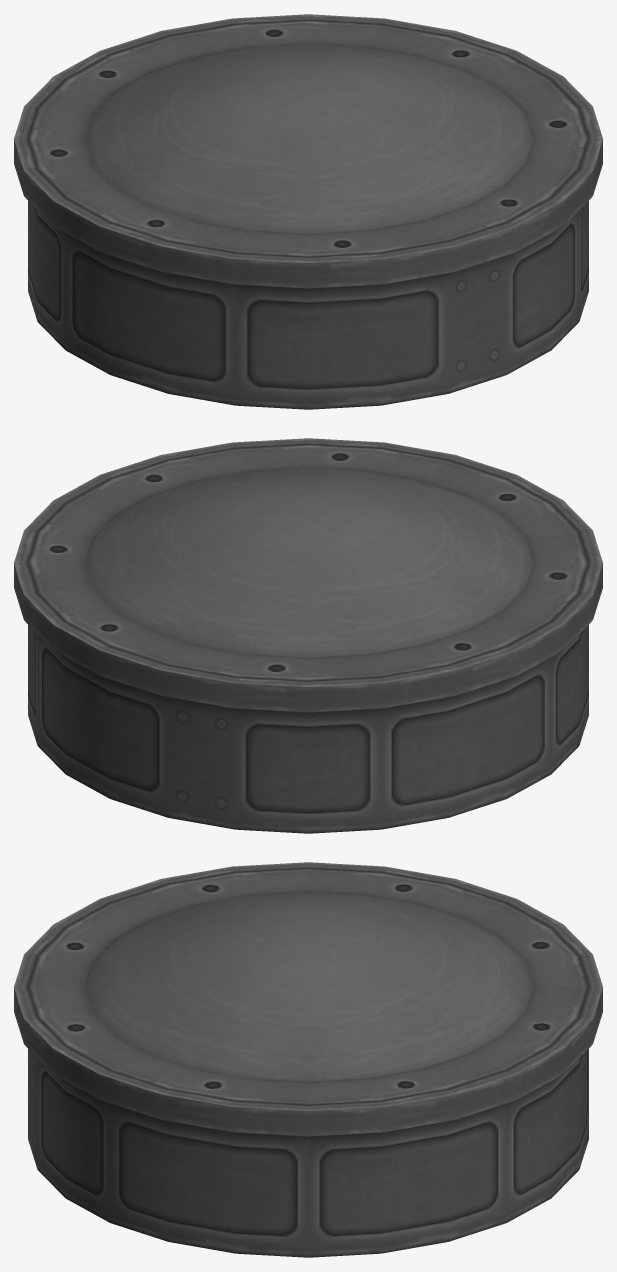
File: circinus_staging_plate_s1_1.obj
3 views of the same model, one above another, from view 1: azimuth 30°, elevation 25°; view 2: azimuth 150°, elevation 25°; view 3: azimuth 270°, elevation 25° (orthographic).
Visible parts, largest first — view 1: circinus_staging_plate_s1p5_1; view 2: circinus_staging_plate_s1p5_1; view 3: circinus_staging_plate_s1p5_1.
Part boxes in pixels (x1,y1,x2,y2): circinus_staging_plate_s1p5_1: (14, 14, 602, 409); circinus_staging_plate_s1p5_1: (14, 438, 602, 833); circinus_staging_plate_s1p5_1: (14, 862, 602, 1257).
Bounding box in the file's own units: 1.31 × 0.5 × 1.31.
